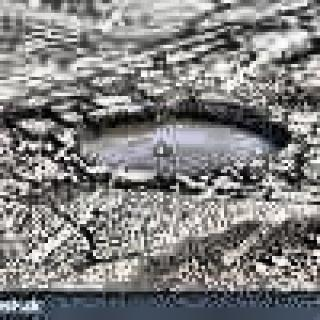alligator-crack: (33, 0, 320, 112)
pothole: (60, 75, 303, 208)
